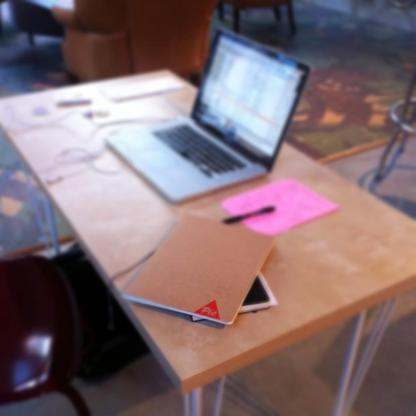board: (104, 20, 310, 203)
